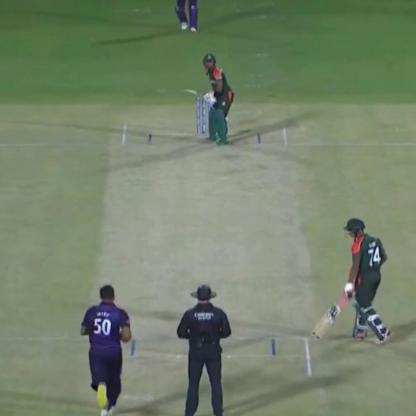bat: (306, 297, 345, 338), (179, 86, 208, 105)
pitch: (104, 118, 318, 384)
